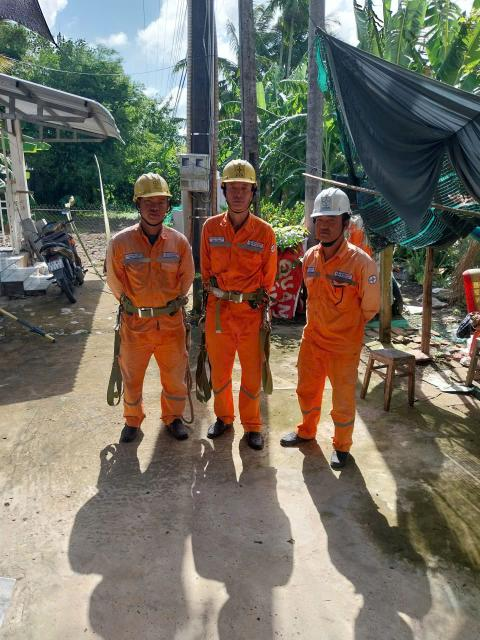harness: (199, 270, 271, 311), (118, 292, 187, 322)
helmet: (207, 156, 272, 193), (128, 166, 177, 207), (307, 183, 356, 219)
shoes: (161, 415, 190, 446), (326, 444, 357, 473), (114, 419, 149, 444), (203, 410, 229, 438), (243, 431, 267, 454), (281, 431, 314, 447)
